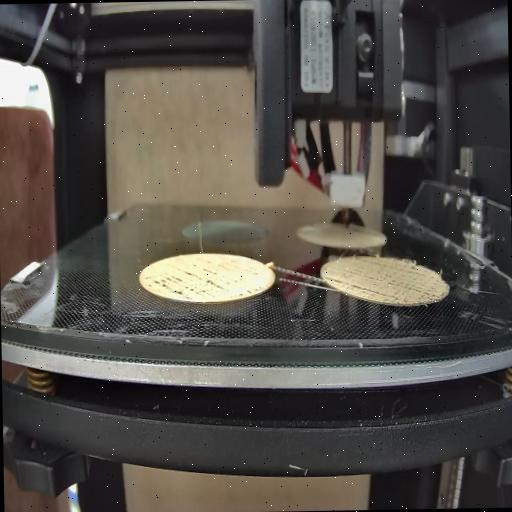under_extrusion: (326, 260, 429, 302), (146, 268, 262, 298)
